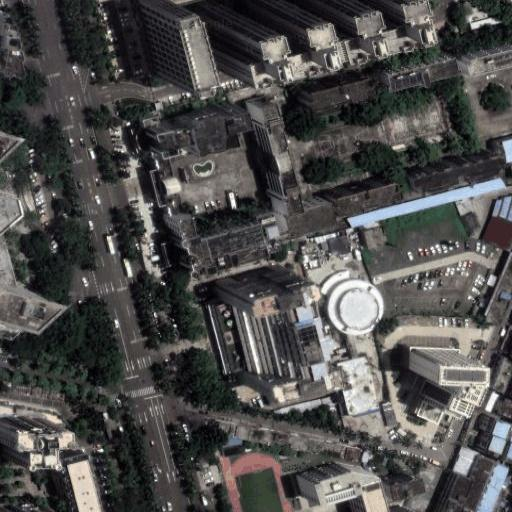building: (210, 272, 312, 395), (299, 90, 449, 164), (189, 0, 380, 55), (347, 176, 505, 231), (162, 213, 260, 284), (249, 103, 293, 213), (403, 143, 500, 188), (129, 0, 172, 86), (332, 278, 390, 336), (179, 115, 242, 162), (304, 472, 378, 512), (381, 48, 456, 86), (336, 357, 380, 420), (306, 72, 374, 111), (214, 304, 250, 373), (285, 435, 361, 464), (213, 418, 288, 447), (135, 163, 175, 217), (331, 175, 396, 208), (483, 250, 512, 322), (276, 202, 328, 237), (273, 392, 334, 420), (461, 34, 512, 67), (246, 215, 274, 260), (145, 133, 184, 165), (481, 215, 512, 252), (383, 474, 422, 498), (421, 355, 470, 374), (0, 13, 17, 67), (455, 448, 483, 479), (0, 180, 17, 221), (0, 118, 17, 157), (442, 374, 470, 396), (496, 364, 512, 402), (437, 388, 463, 409), (413, 393, 437, 414), (327, 236, 351, 257), (469, 15, 504, 29), (381, 401, 397, 428), (483, 416, 504, 436), (461, 212, 480, 234), (10, 500, 44, 512), (497, 440, 512, 463), (481, 432, 498, 451), (497, 400, 512, 420), (500, 138, 512, 162), (498, 197, 512, 217), (315, 232, 337, 242), (435, 401, 454, 412), (491, 398, 503, 415), (492, 199, 503, 215), (504, 425, 512, 442), (506, 197, 512, 219), (322, 240, 330, 251), (486, 449, 493, 455)
